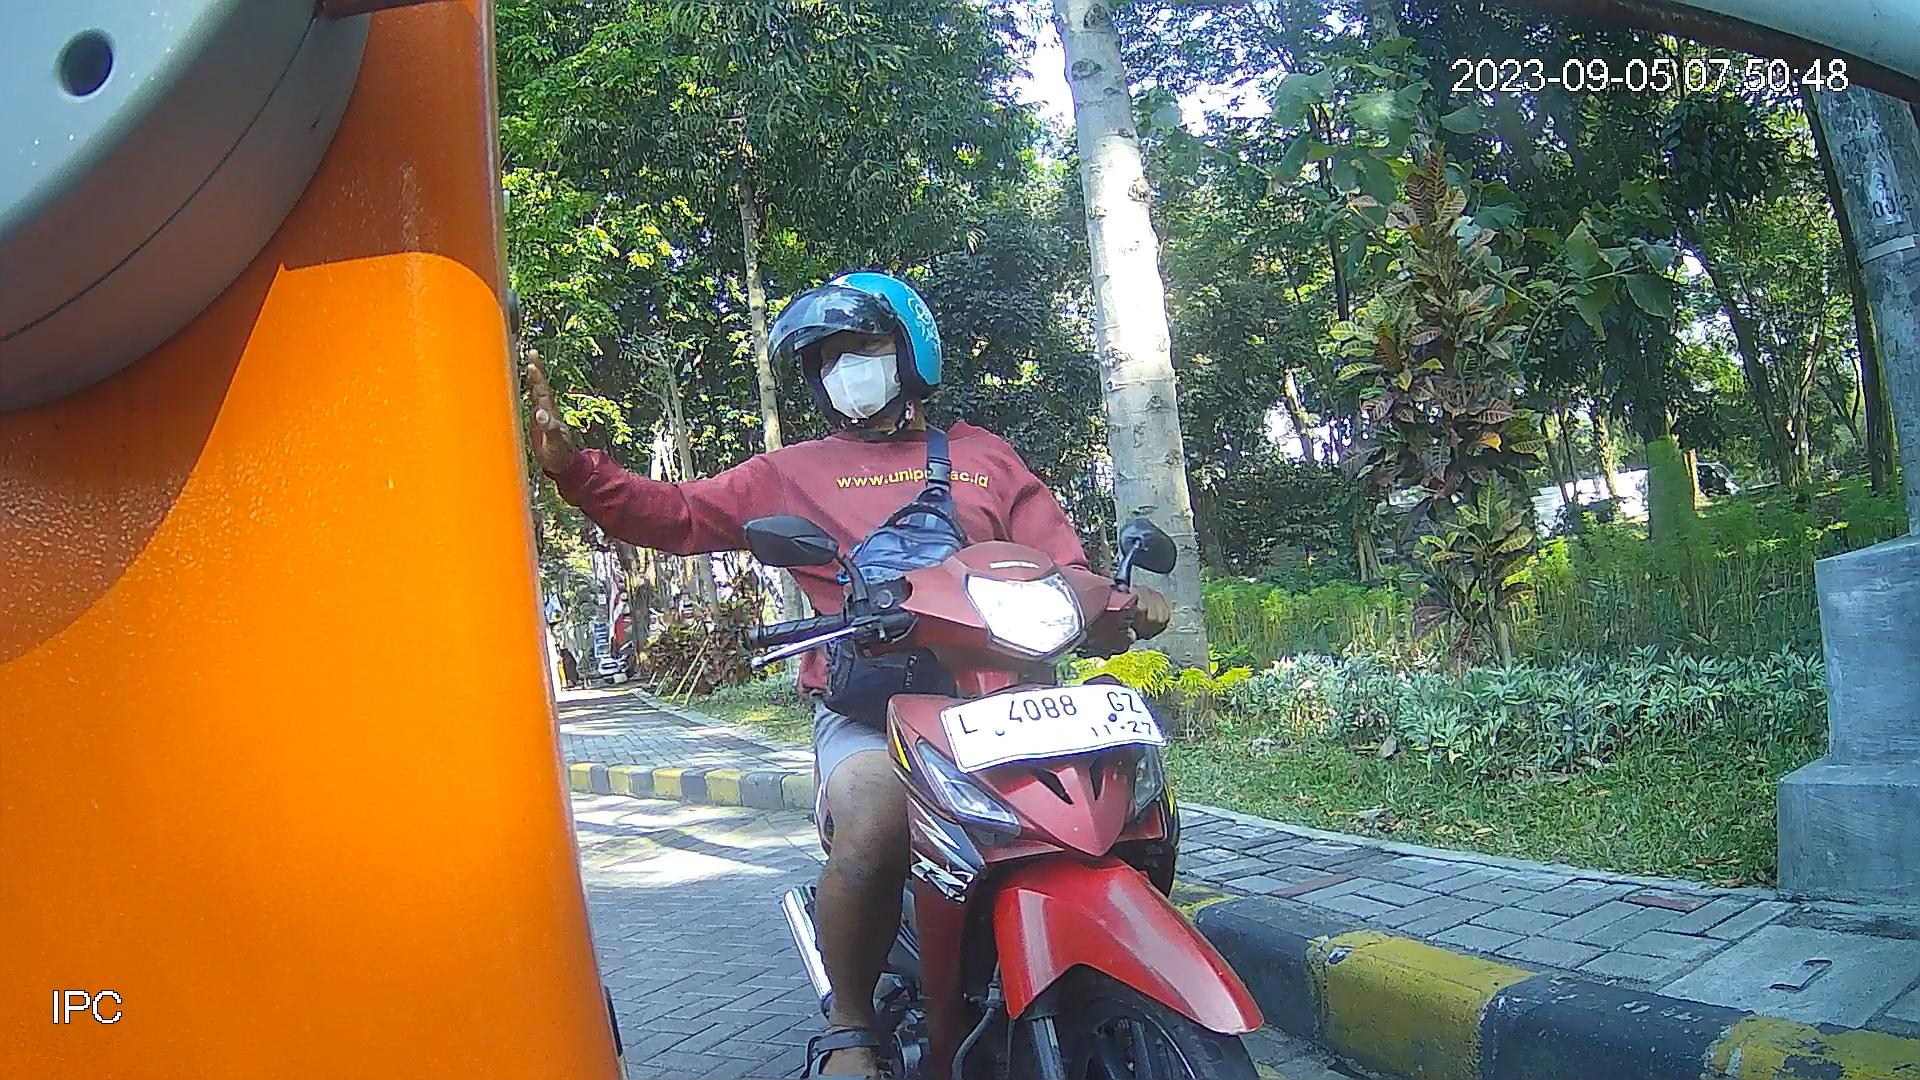plat: (936, 684, 1170, 775)
